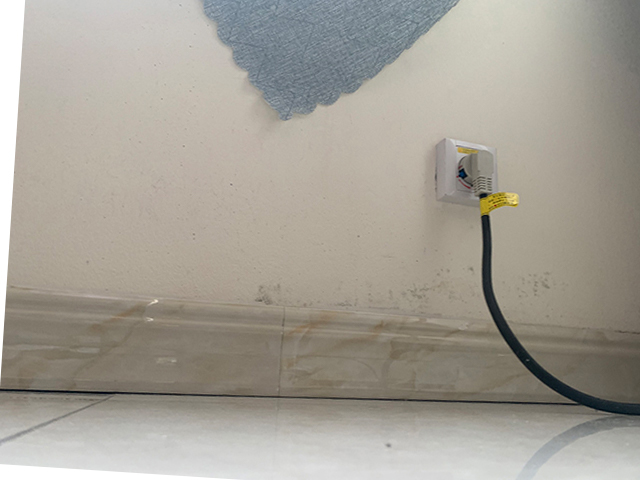wire: (459, 149, 640, 419)
